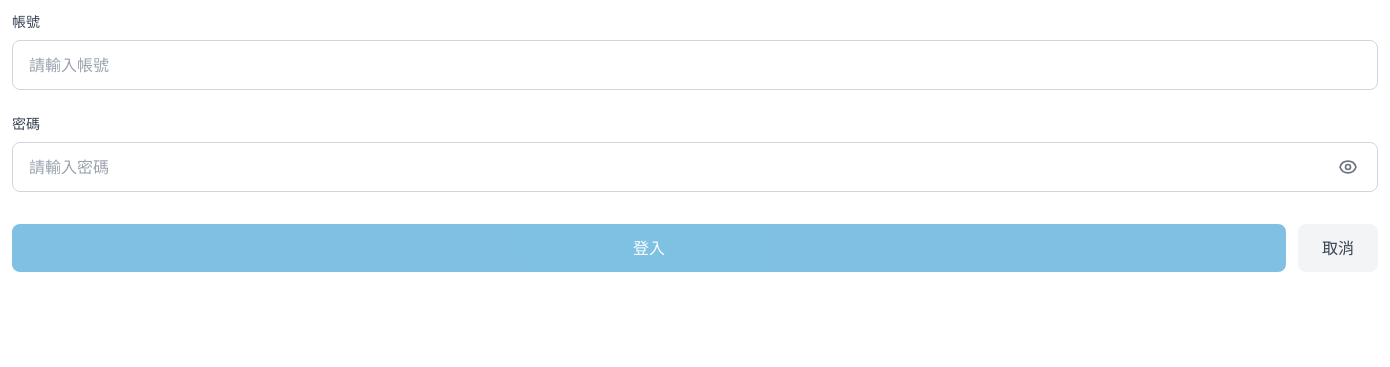
Test: 登入流程整合測試 › 應該顯示帳號鎖定訊息
Type "testuser" into the field labelled "帳號" at (695, 65), box [12,40,1378,90]
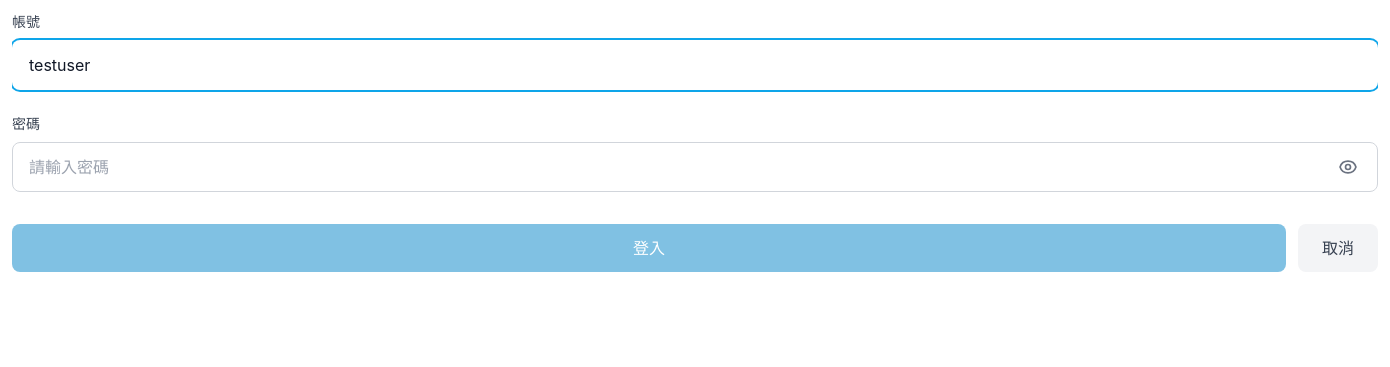
Type "password123" into the password field labelled "密碼" at (695, 167), box [12,142,1378,192]
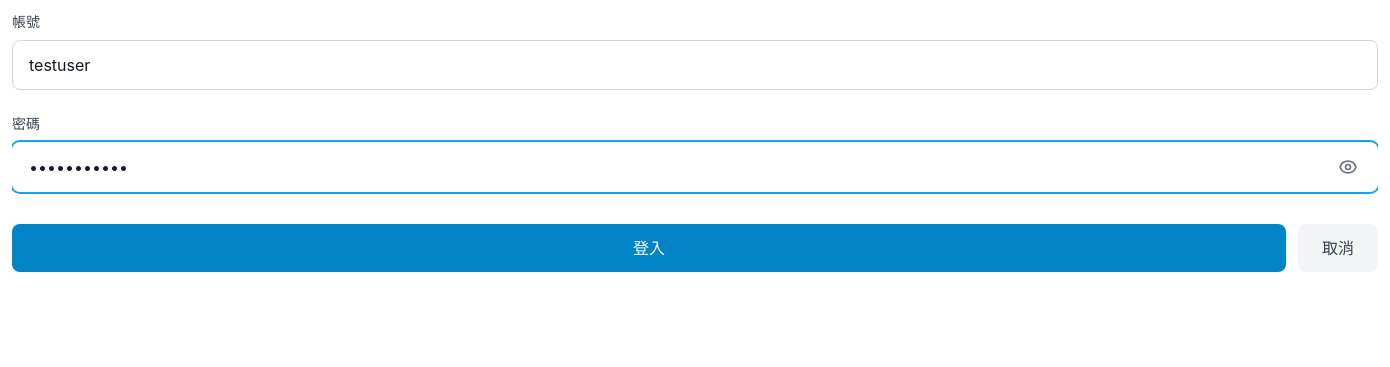
Click the button "登入" at (649, 248), box [12,224,1286,272]
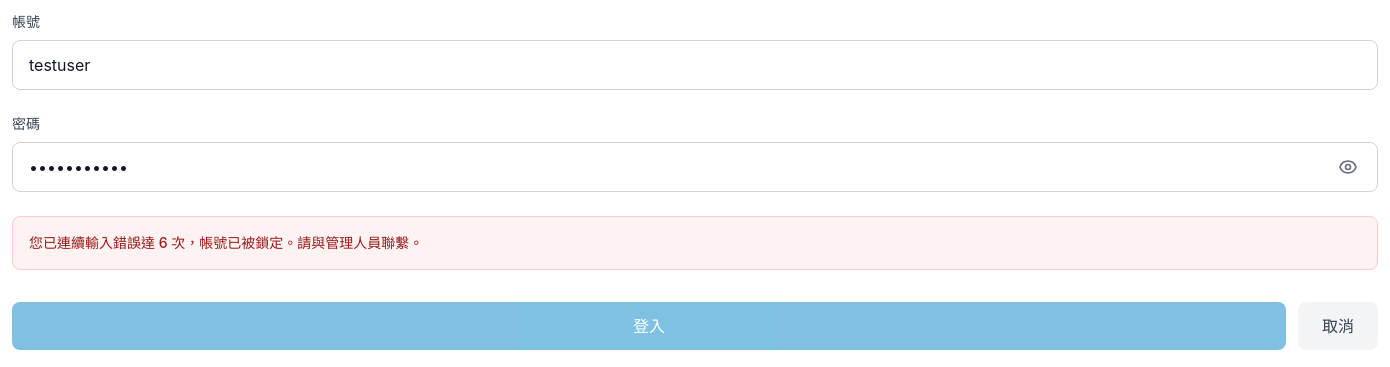
Expected: the text "您已連續輸入錯誤達 6 次，帳號已被鎖定。請與管理人員聯繫。" is shown, [29,234,423,251]
Expected: the button "登入" is disabled, [12,302,1286,350]
